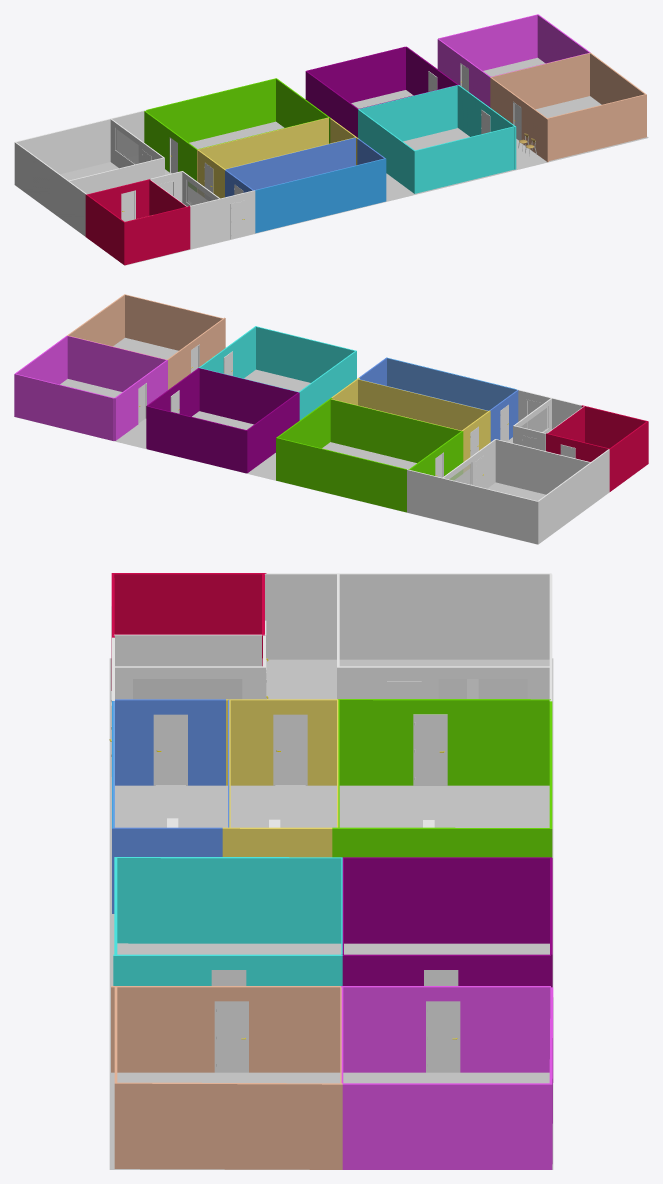
Rendered from MODELO_C.glb.
The picture shows the model from 3 angles, top to bottom: view 1: azimuth 30°, elevation 25°; view 2: azimuth 150°, elevation 25°; view 3: azimuth 270°, elevation 25°; orthographic projection. The views are drawn at different scales.
Visible parts, largest first — view 1: MODELO_C; view 2: MODELO_C; view 3: MODELO_C.
Boxes of the visible parts, left/top/right/bottom form: MODELO_C: left=14, top=14, right=648, bottom=265; MODELO_C: left=14, top=294, right=648, bottom=544; MODELO_C: left=109, top=573, right=553, bottom=1169.
Size of the model in its own units: 3212 by 251 by 1177.
